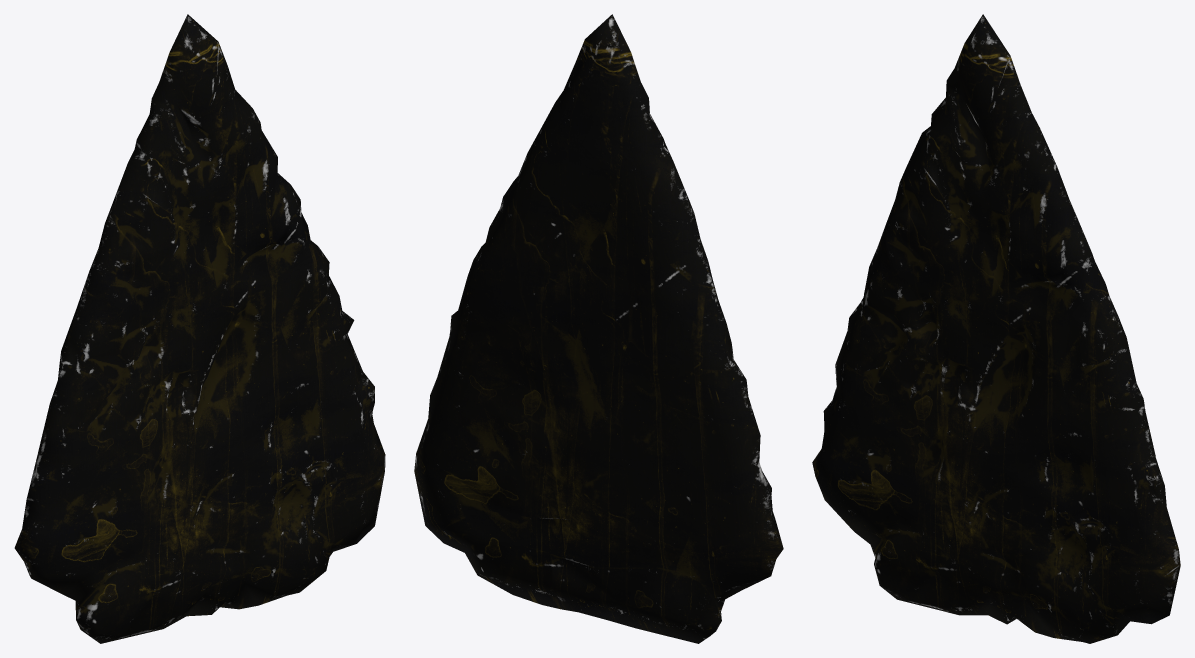
Rendered from puntaflecha.gltf.
The picture shows the model from 3 angles, left to right: view 1: azimuth 30°, elevation 25°; view 2: azimuth 150°, elevation 25°; view 3: azimuth 330°, elevation 25°; orthographic projection.
Visible parts, largest first — view 1: Flecha; view 2: Flecha; view 3: Flecha.
Boxes of the visible parts, <box> form: Flecha: <box>14,14,385,643</box>; Flecha: <box>414,14,783,643</box>; Flecha: <box>812,14,1180,643</box>.
Bounding box in the file's own units: 3.71 × 5.83 × 0.4351.
Materials: 1 (1 with a texture image).
